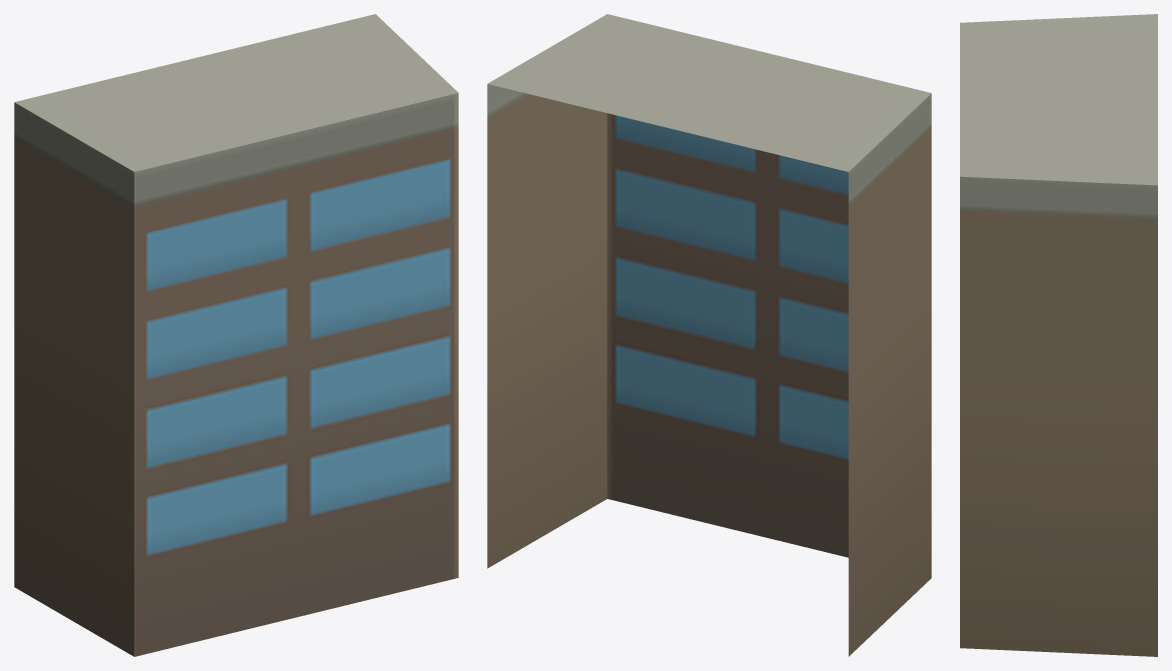
File: Common_Building_12.fbx
3 views of the same model, side by side, from view 1: azimuth 30°, elevation 25°; view 2: azimuth 150°, elevation 25°; view 3: azimuth 270°, elevation 25° (orthographic). The views are drawn at different scales.
Parts seen in each view (by area): view 1: Common_Building_12; view 2: Common_Building_12; view 3: Common_Building_12.
Part boxes in pixels (<box>): Common_Building_12: <box>14,14,458,656</box>; Common_Building_12: <box>487,14,931,656</box>; Common_Building_12: <box>960,14,1157,656</box>.
Bounding box in the file's own units: 3900 × 5000 × 1900.
